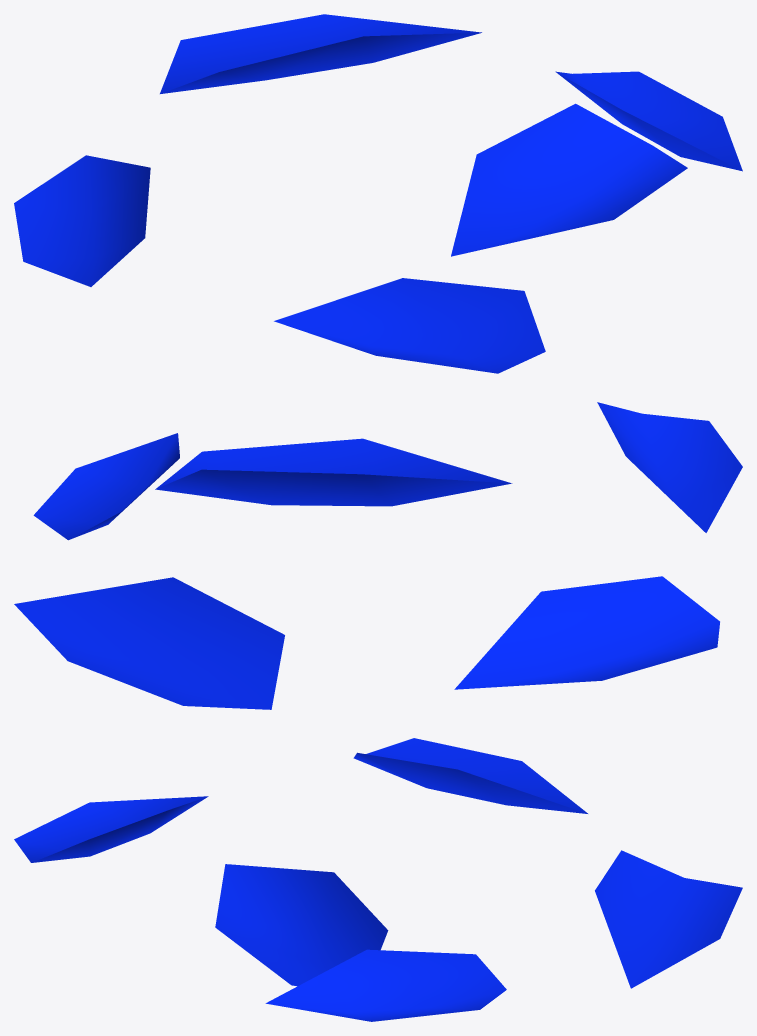
File: DryPalm1.fbx
3 views of the same model, one above another, from view 1: azimuth 30°, elevation 25°; view 2: azimuth 150°, elevation 25°; view 3: azimuth 270°, elevation 25° (orthographic). The views are drawn at different scales.
Visible parts, largest first — view 1: DryPalm1; view 2: DryPalm1; view 3: DryPalm1.
Boxes of the visible parts, box(x1,y1,x2,y2) form: DryPalm1: box(14, 14, 742, 373); DryPalm1: box(14, 402, 742, 709); DryPalm1: box(14, 738, 742, 1021).
Bounding box in the file's own units: 114 × 10.07 × 124.
